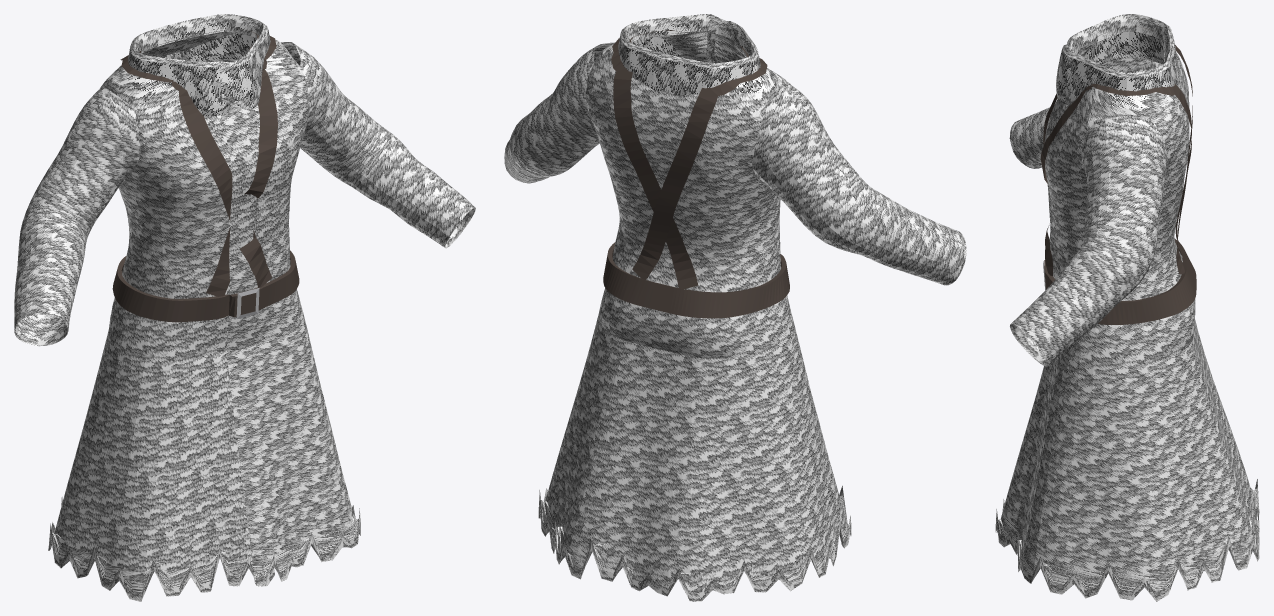
File: ewb_krampus.glb
3 views of the same model, side by side, from view 1: azimuth 30°, elevation 25°; view 2: azimuth 150°, elevation 25°; view 3: azimuth 270°, elevation 25° (orthographic).
Parts seen in each view (by area): view 1: ewb_krampus; view 2: ewb_krampus; view 3: ewb_krampus.
Boxes of the visible parts, <box> form: ewb_krampus: <box>14,14,475,601</box>; ewb_krampus: <box>504,14,966,601</box>; ewb_krampus: <box>995,14,1259,601</box>.
Bounding box in the file's own units: 1.15 × 1.21 × 0.5843.
Materials: 3 (1 with a texture image).
